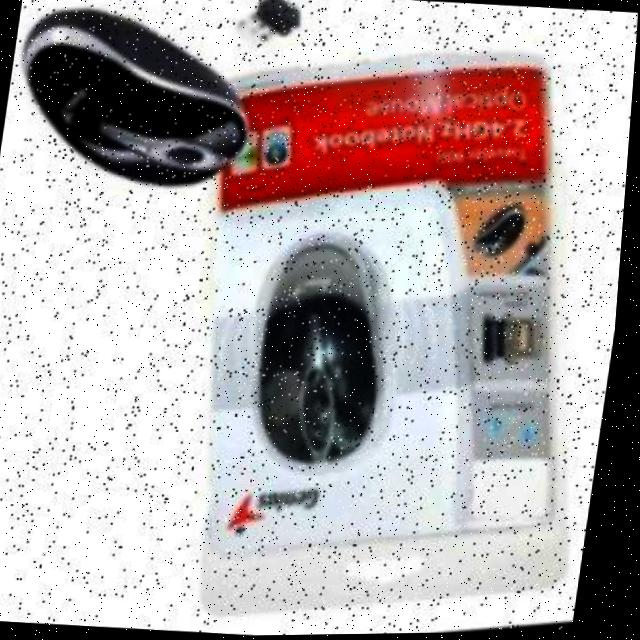mause: (0, 0, 297, 243), (187, 200, 427, 495)
